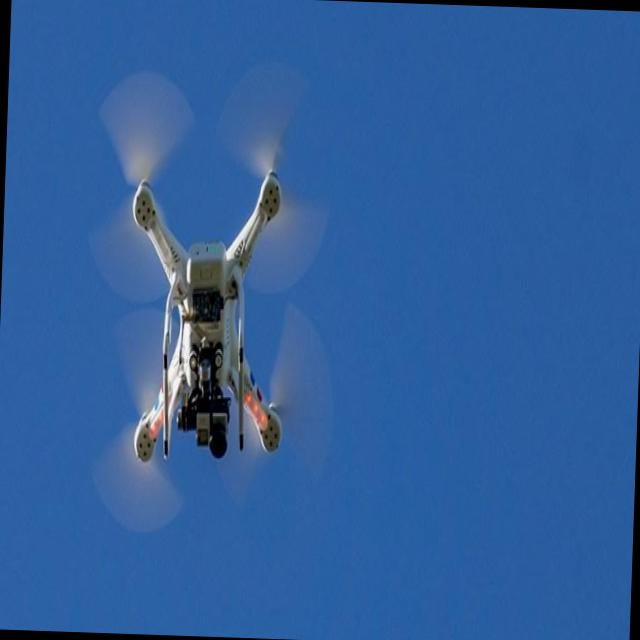drone: (123, 162, 291, 477)
